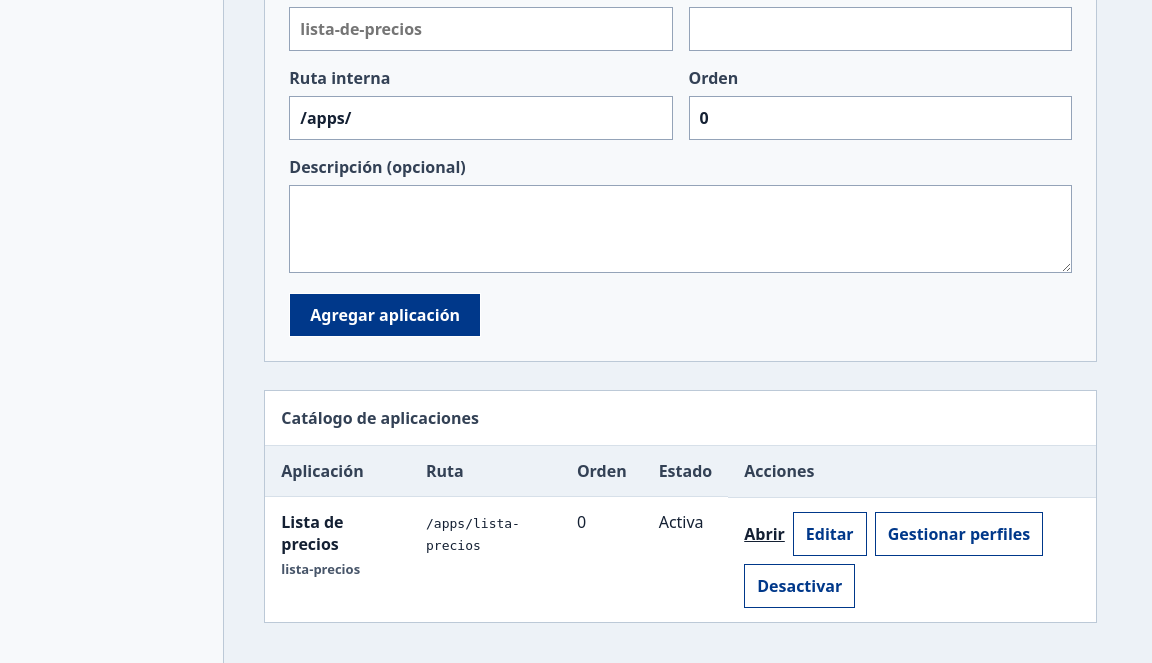
Test: App › muestra permisos inactivos sin ofrecer su asociación a un perfil
(page scrolled)
Click the button "Gestionar perfiles".
click(959, 534)  # box [875,512,1043,556]
(page scrolled)
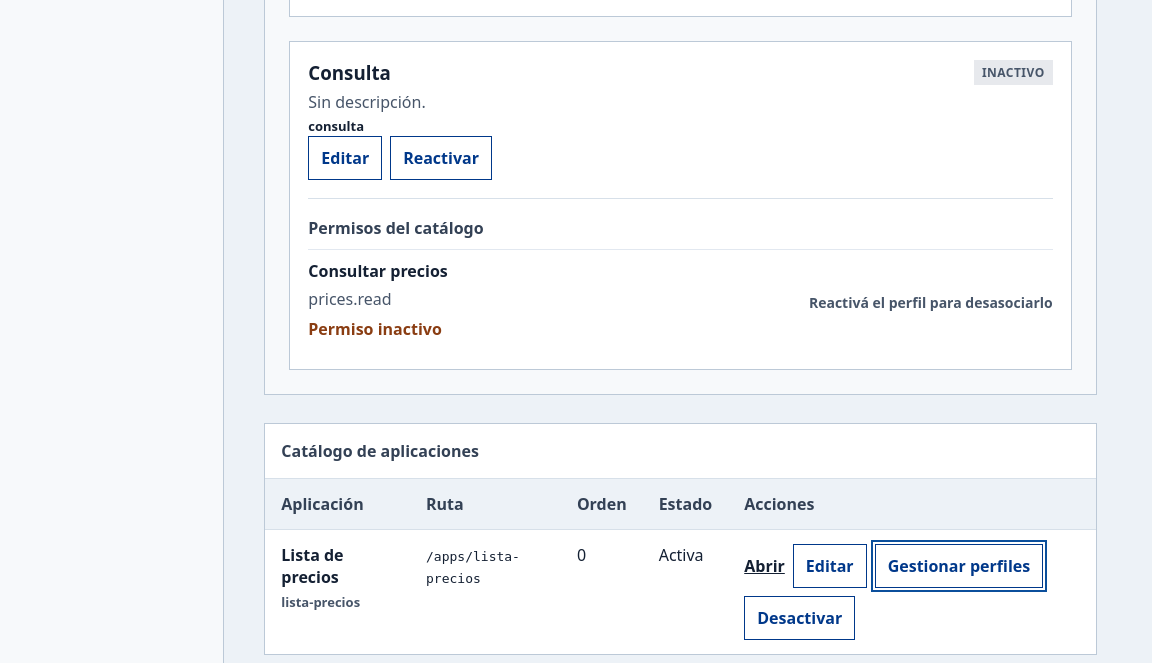
Expected: the text "Permiso inactivo" is shown, [308,318,448,341]
Expected: the text "Reactivá el perfil para desasociarlo" is shown, [809,293,1053,314]
